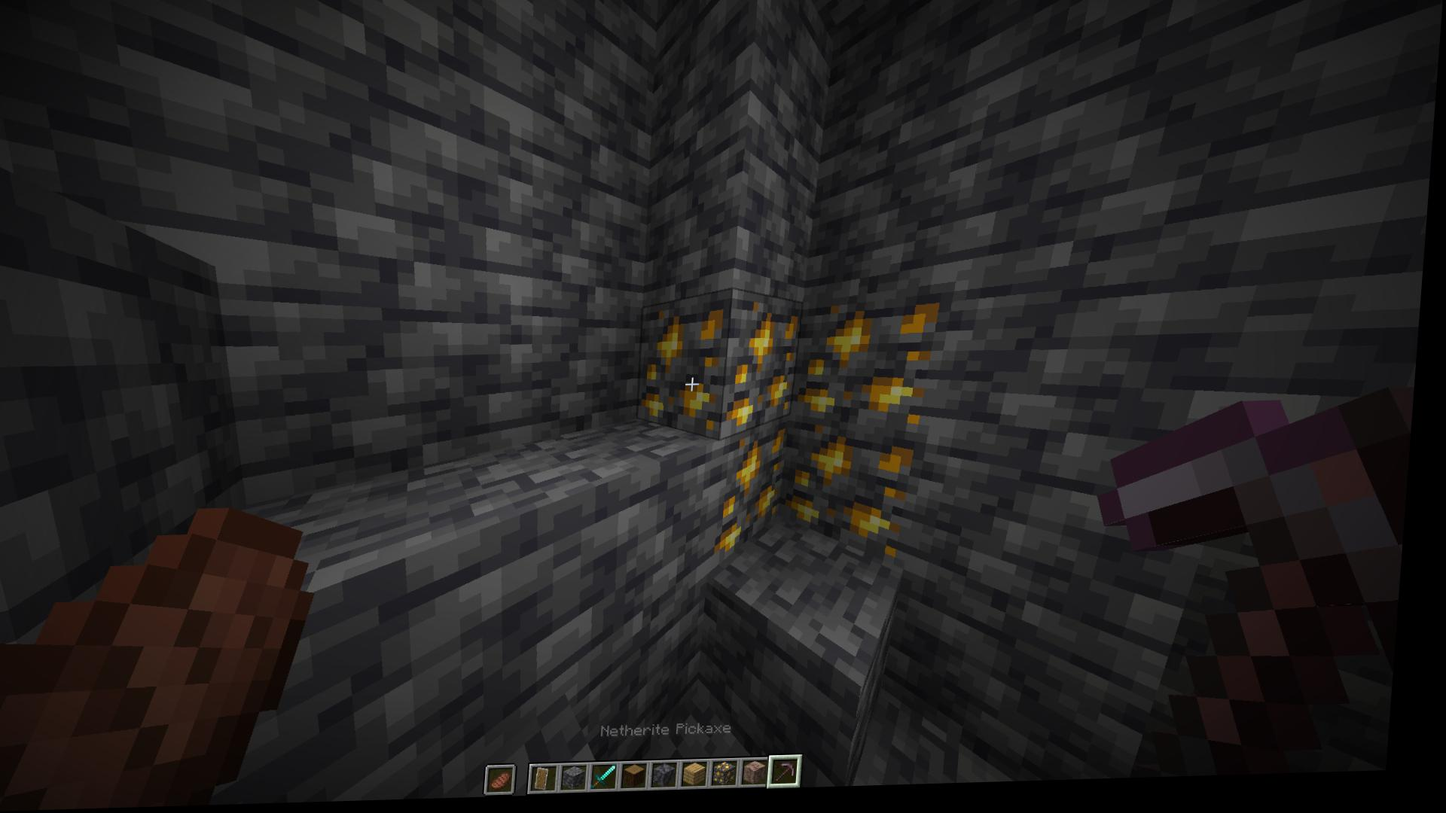gold ore: (801, 302, 942, 439), (795, 432, 931, 570), (642, 304, 735, 435), (718, 423, 799, 559), (728, 296, 807, 435)
